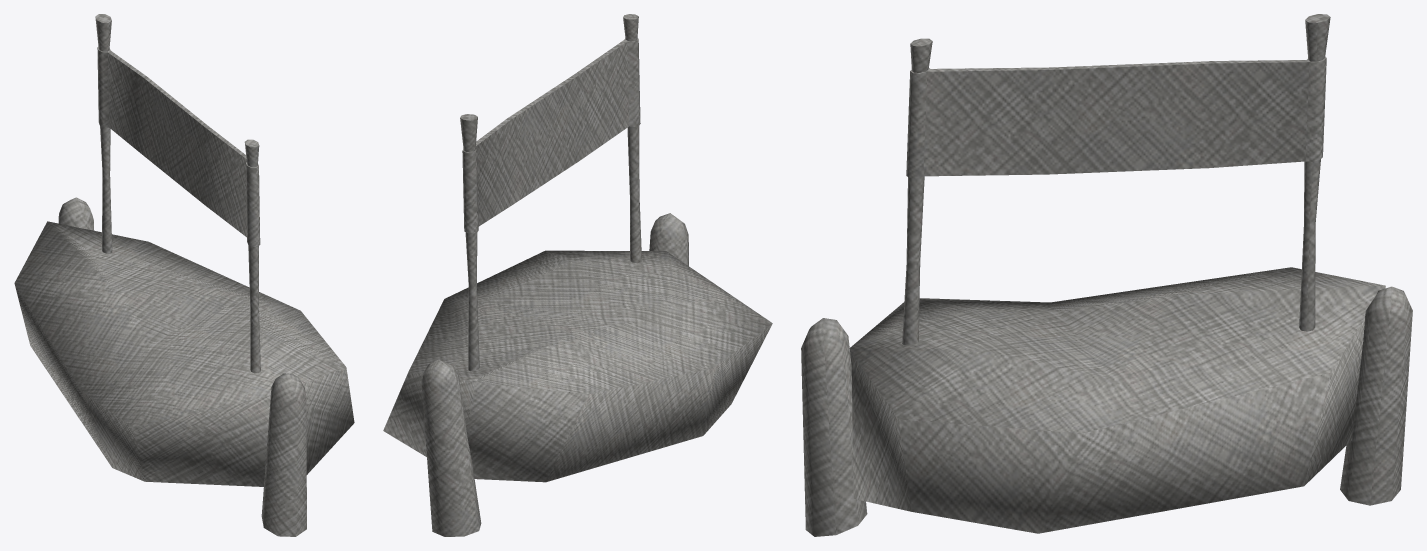
File: Finish.FBX
3 renders of one model, left to right at view 1: azimuth 30°, elevation 25°; view 2: azimuth 150°, elevation 25°; view 3: azimuth 270°, elevation 25°, orthographic. The views are drawn at different scales.
Parts seen in each view (by area): view 1: Asteroid2_02; view 2: Asteroid2_02; view 3: Asteroid2_02.
Part boxes in pixels (x1=…): Asteroid2_02: x1=14, y1=14, x2=354, y2=536; Asteroid2_02: x1=383, y1=14, x2=772, y2=536; Asteroid2_02: x1=801, y1=14, x2=1412, y2=536.
Size of the model in its own units: 18 by 28.15 by 30.5.
